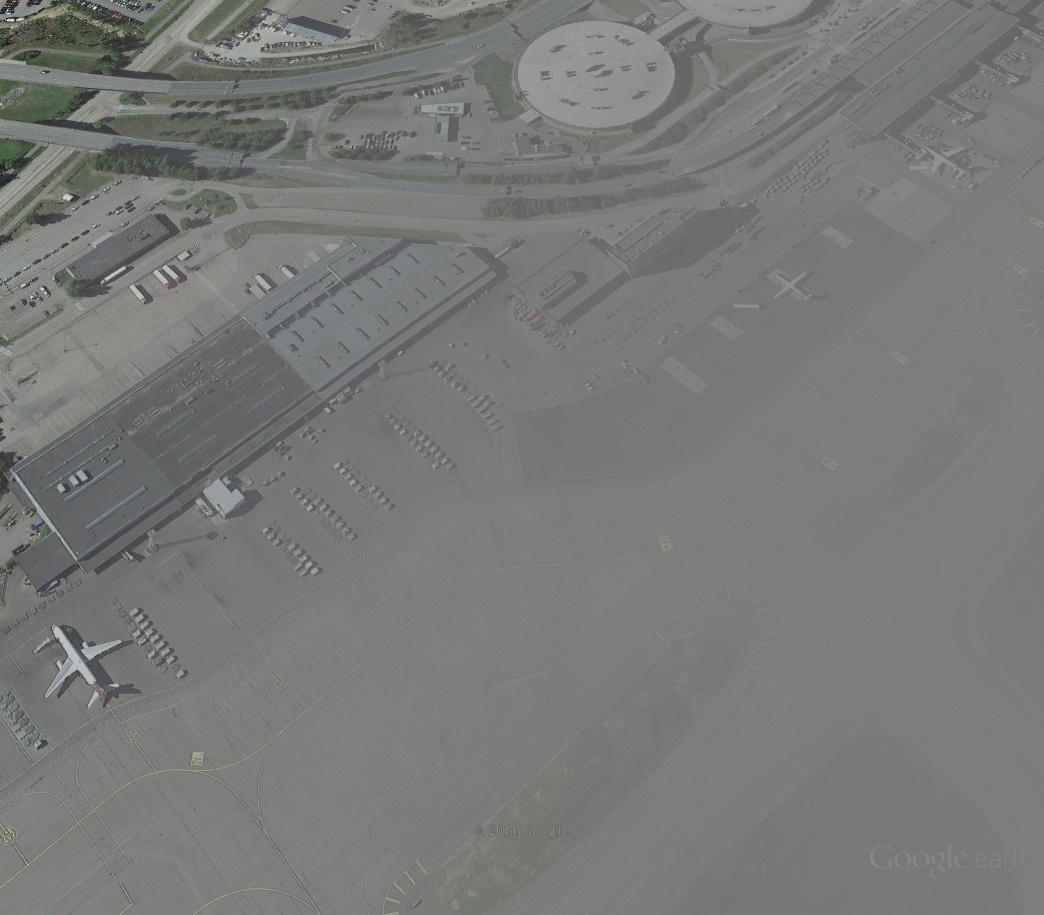aircraft: (42, 622, 126, 714), (763, 267, 817, 306), (922, 144, 973, 184)
